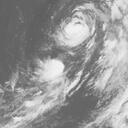cyclone: (53, 4, 96, 51), (35, 59, 72, 98)
